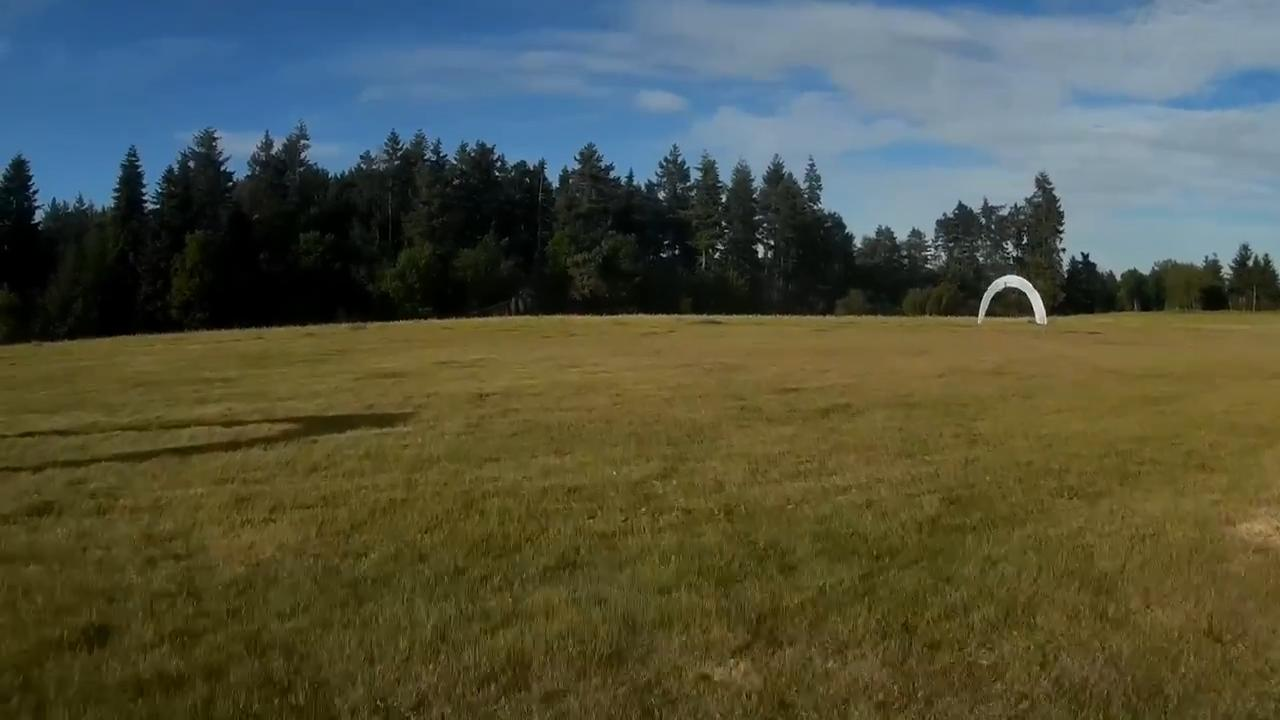gate: (977, 273, 1043, 327)
